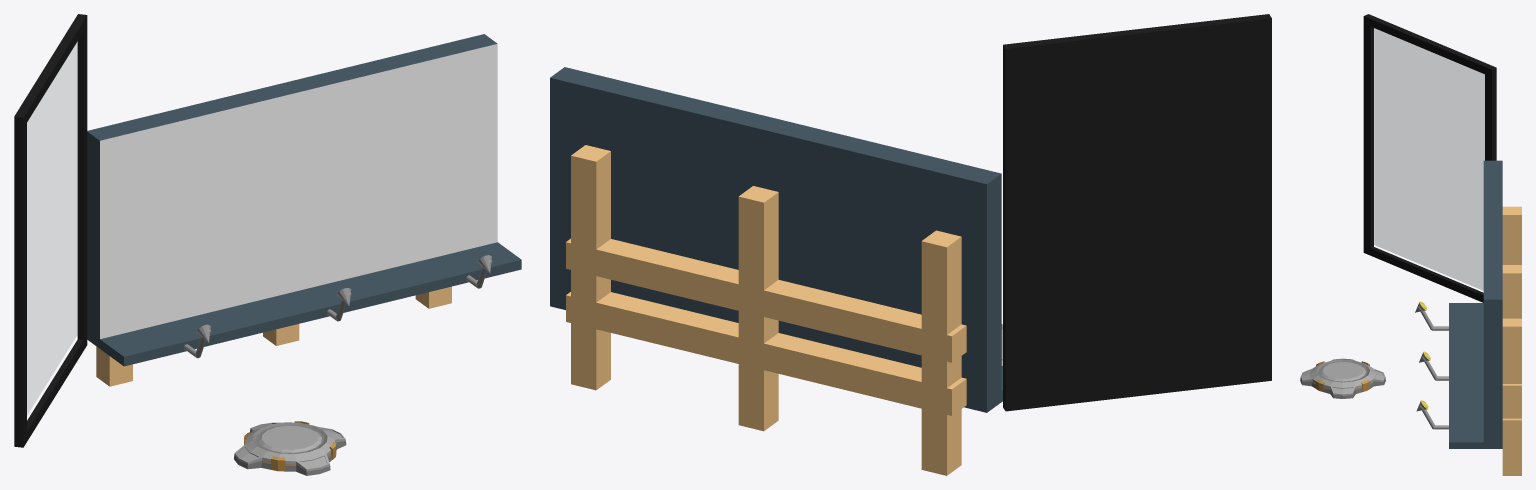
File: billboardSet2.glb
3 renders of one model, left to right at view 1: azimuth 30°, elevation 25°; view 2: azimuth 150°, elevation 25°; view 3: azimuth 270°, elevation 25°, orthographic. The views are drawn at different scales.
Parts seen in each view (by area): view 1: billboard, sidescreen, sidescreenScreen, Props_Base; view 2: billboard, sidescreenScreen; view 3: sidescreen, billboard, sidescreenScreen, Props_Base.
Part boxes in pixels (box(x1,y1,x2,y2)): billboard: box(87, 34, 521, 386); sidescreen: box(27, 42, 77, 414); sidescreenScreen: box(14, 14, 87, 447); Props_Base: box(234, 421, 346, 475); billboard: box(550, 67, 1002, 475); sidescreenScreen: box(1003, 14, 1271, 411); sidescreen: box(1374, 28, 1484, 290); billboard: box(1415, 160, 1521, 475); sidescreenScreen: box(1363, 14, 1496, 302); Props_Base: box(1300, 358, 1385, 398).
Bounding box in the file's own units: 1.22 × 0.7963 × 0.5787.
